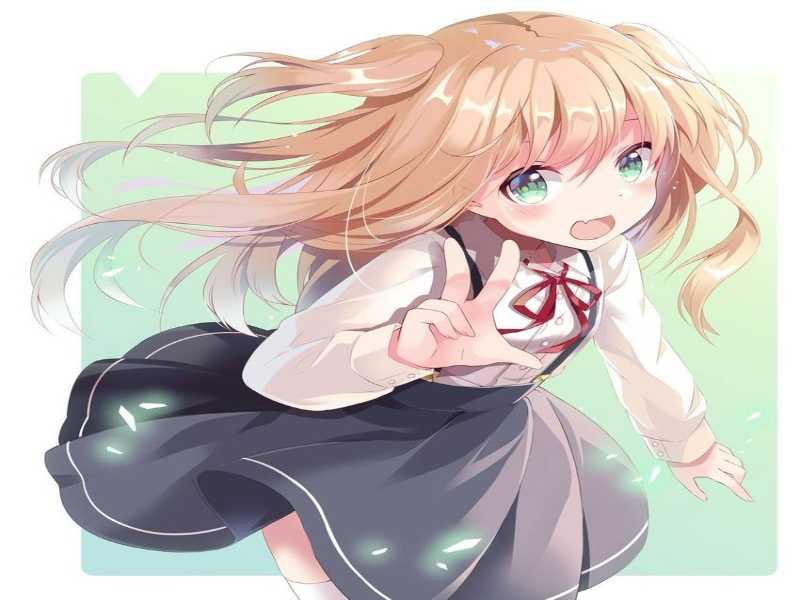dress: (39, 310, 666, 600)
person: (345, 4, 728, 266)
